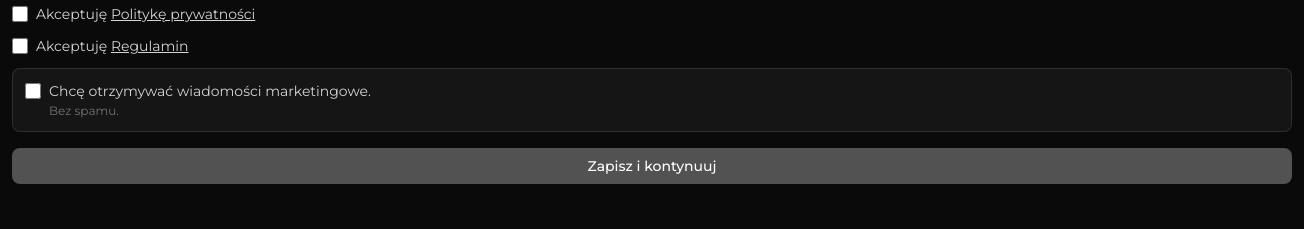
ProfileCompletionForm › should block submit when the mandatory terms are unchecked
Click the checkbox with id "completionPrivacy" at (20, 14), box [12,6,28,22]
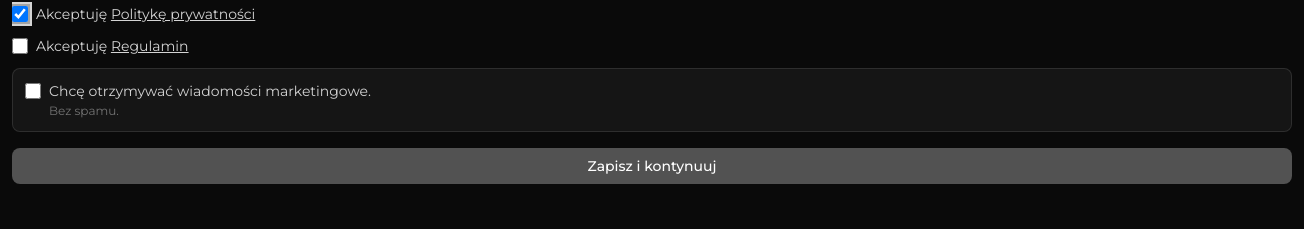
Click the button "Zapisz i kontynuuj" at (652, 166), box [12,148,1292,184]
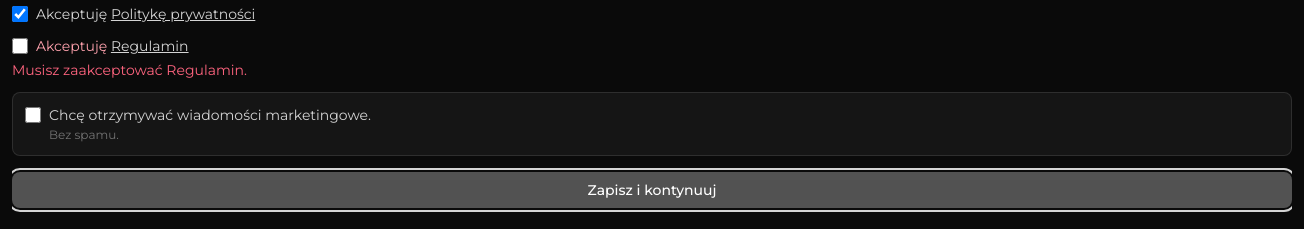
Now the text "Musisz zaakceptować Regulamin." is shown, box [12,61,247,79]
